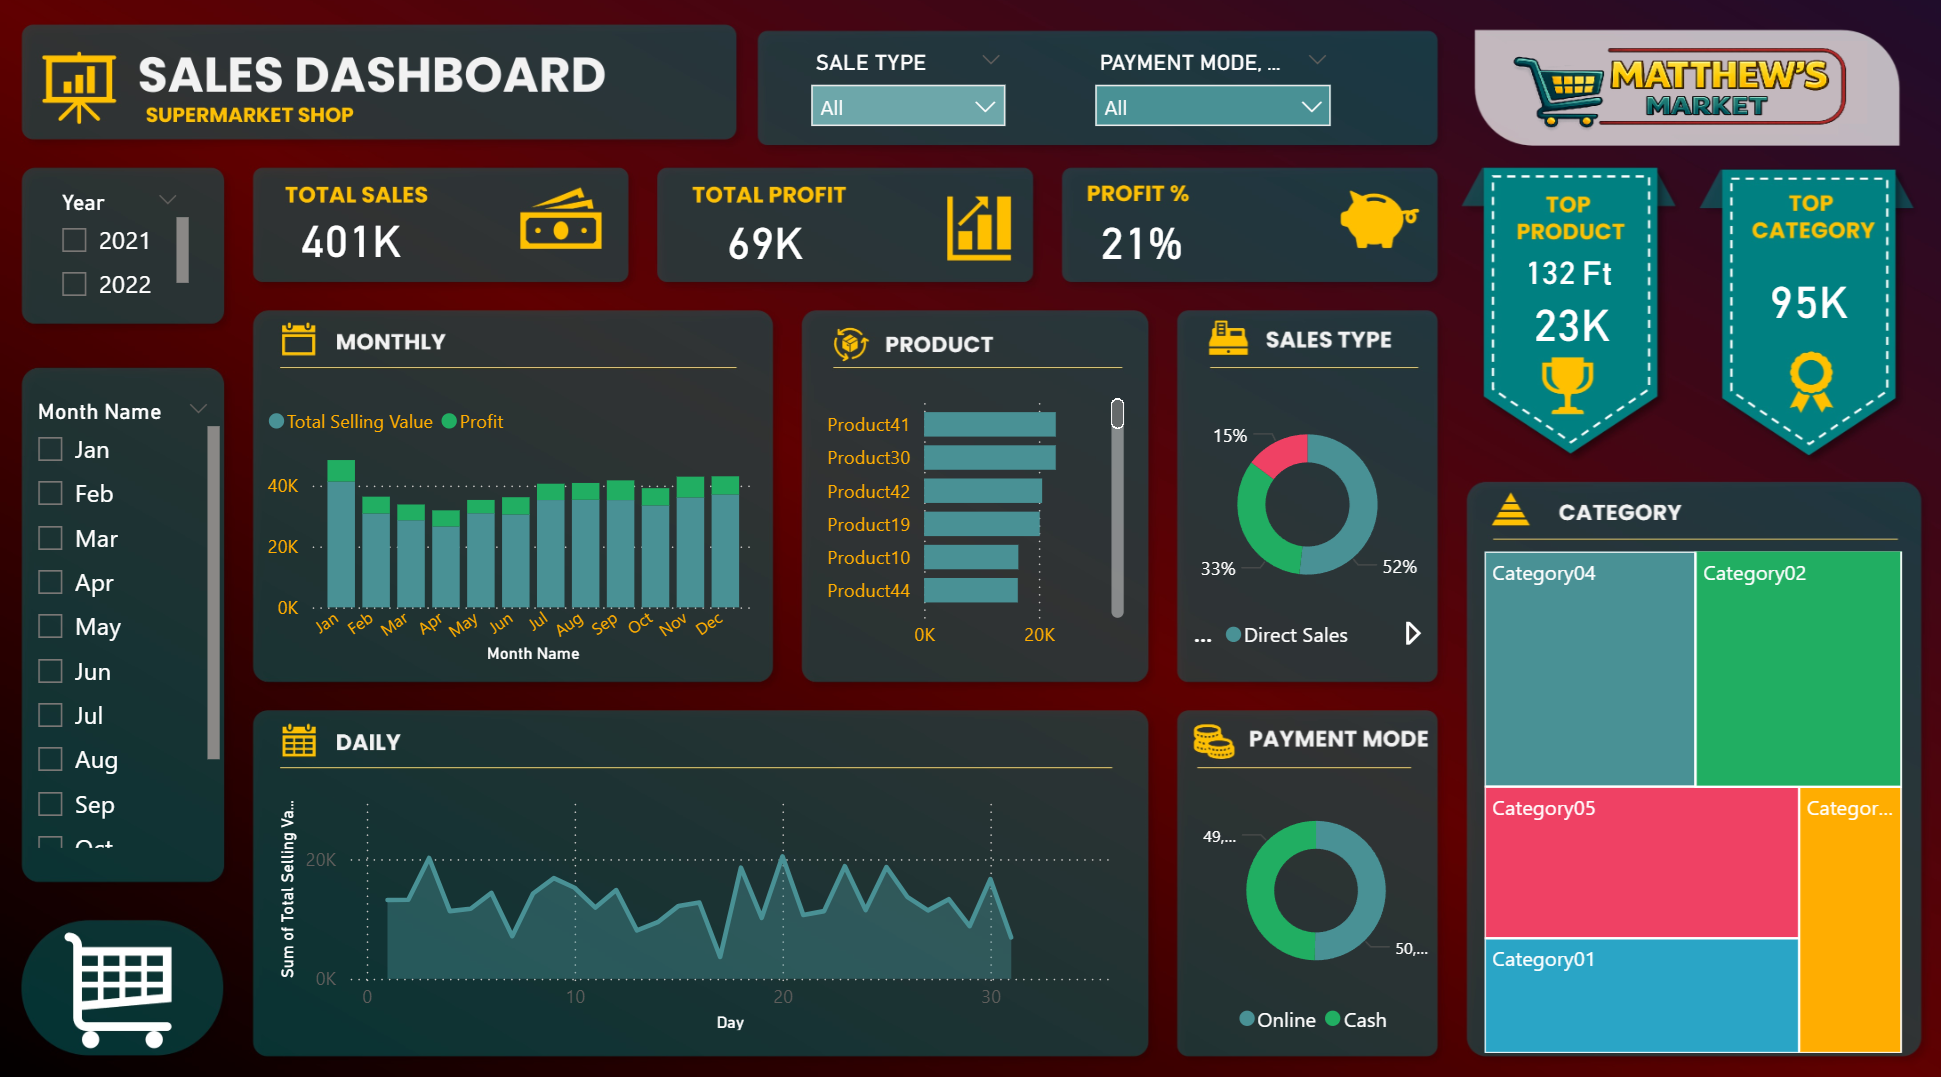

The dashboard page shown, as its layout file describes it:
{"tool":"powerbi","page":{"name":"Matrket_Sales","canvas":[1280,720],"ordinal":0},"visuals":[{"type":"slicer","fields":{"Values":["InputData.Year"]},"box":[31.8,123.1,101.4,83.2],"z":0},{"type":"slicer","fields":{"Values":["InputData.SALE TYPE"]},"box":[525.4,31.1,146.7,62.9],"z":1000},{"type":"slicer","fields":{"Values":["InputData.PAYMENT MODE","InputData.Total Selling Value"]},"box":[711.3,31.1,174.5,62.9],"z":2000},{"type":"slicer","fields":{"Values":["InputData.Month Name"]},"box":[16.2,259.7,137.3,303.6],"z":3000},{"type":"card","fields":{"Values":["InputData.Profit"]},"box":[459.8,140.6,89.9,41.9],"z":4000},{"type":"card","fields":{"Values":["InputData.QUANTITY"]},"box":[987.2,165,62.9,35.2],"z":5000},{"type":"card","fields":{"Values":["InputData.Profit %"]},"box":[711.3,140.6,80.5,41.9],"z":6000},{"type":"card","fields":{"Values":["InputData.MasterData.UOM"]},"box":[1033.2,169,33.1,27],"z":7000},{"type":"card","fields":{"Values":["InputData.Total Selling Value"]},"box":[1148.1,179.2,79.1,41.2],"z":8000},{"type":"card","fields":{"Values":["InputData.Total Selling Value"]},"box":[991.9,194.1,81.8,41.9],"z":9000},{"type":"card","fields":{"Values":["InputData.Total Selling Value"]},"box":[188,137.3,92.6,45.3],"z":10000},{"type":"columnChart","title":"Total Selling Value and Sum of Profit by Month Name","fields":{"Category":["InputData.Month Name"],"Y":["InputData.Total Selling Value","InputData.Profit"]},"box":[174.5,259.7,327.9,182.6],"z":11000},{"type":"clusteredBarChart","fields":{"Y":["InputData.Total Selling Value"],"Category":["InputData.MasterData.PRODUCT"]},"box":[535.5,252.2,209.6,185.3],"z":12000},{"type":"areaChart","fields":{"Y":["InputData.Total Selling Value"],"Category":["InputData.Day"]},"box":[182.6,513.2,553.1,170.4],"z":13000},{"type":"donutChart","fields":{"Y":["InputData.Total Selling Value"],"Category":["InputData.SALE TYPE"]},"box":[781,259.7,158.9,177.8],"z":14000},{"type":"donutChart","fields":{"Y":["InputData.Total Selling Value"],"Category":["InputData.PAYMENT MODE"]},"box":[786.6,513,158.4,176.7],"z":15000},{"type":"treemap","fields":{"Group":["InputData.MasterData.CATEGORY"],"Values":["InputData.Total Selling Value"]},"box":[971,359.7,282.6,338.1],"z":16000}]}

Visuals, with their boxes in screenshot pixels (x1, y1, x2, y2), scaled from the page's 1280x720 canvas onto the 1941x1077 screenshot:
slicer - InputData.Year: (left=48, top=184, right=202, bottom=309)
slicer - InputData.SALE TYPE: (left=797, top=47, right=1019, bottom=141)
slicer - InputData.PAYMENT MODE x InputData.Total Selling Value: (left=1079, top=47, right=1343, bottom=141)
slicer - InputData.Month Name: (left=25, top=388, right=233, bottom=843)
card - InputData.Profit: (left=697, top=210, right=834, bottom=273)
card - InputData.QUANTITY: (left=1497, top=247, right=1592, bottom=299)
card - InputData.Profit %: (left=1079, top=210, right=1201, bottom=273)
card - InputData.MasterData.UOM: (left=1567, top=253, right=1617, bottom=293)
card - InputData.Total Selling Value: (left=1741, top=268, right=1861, bottom=330)
card - InputData.Total Selling Value: (left=1504, top=290, right=1628, bottom=353)
card - InputData.Total Selling Value: (left=285, top=205, right=426, bottom=273)
"Total Selling Value and Sum of Profit by Month Name" columnChart: (left=265, top=388, right=762, bottom=662)
clusteredBarChart - InputData.Total Selling Value x InputData.MasterData.PRODUCT: (left=812, top=377, right=1130, bottom=654)
areaChart - InputData.Total Selling Value x InputData.Day: (left=277, top=768, right=1116, bottom=1023)
donutChart - InputData.Total Selling Value x InputData.SALE TYPE: (left=1184, top=388, right=1425, bottom=654)
donutChart - InputData.Total Selling Value x InputData.PAYMENT MODE: (left=1193, top=767, right=1433, bottom=1032)
treemap - InputData.MasterData.CATEGORY x InputData.Total Selling Value: (left=1472, top=538, right=1901, bottom=1044)
